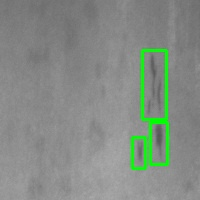inclusion: (142, 50, 166, 119), (150, 122, 167, 164), (132, 137, 145, 168)
